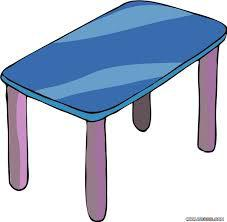desk: (3, 10, 221, 209)
